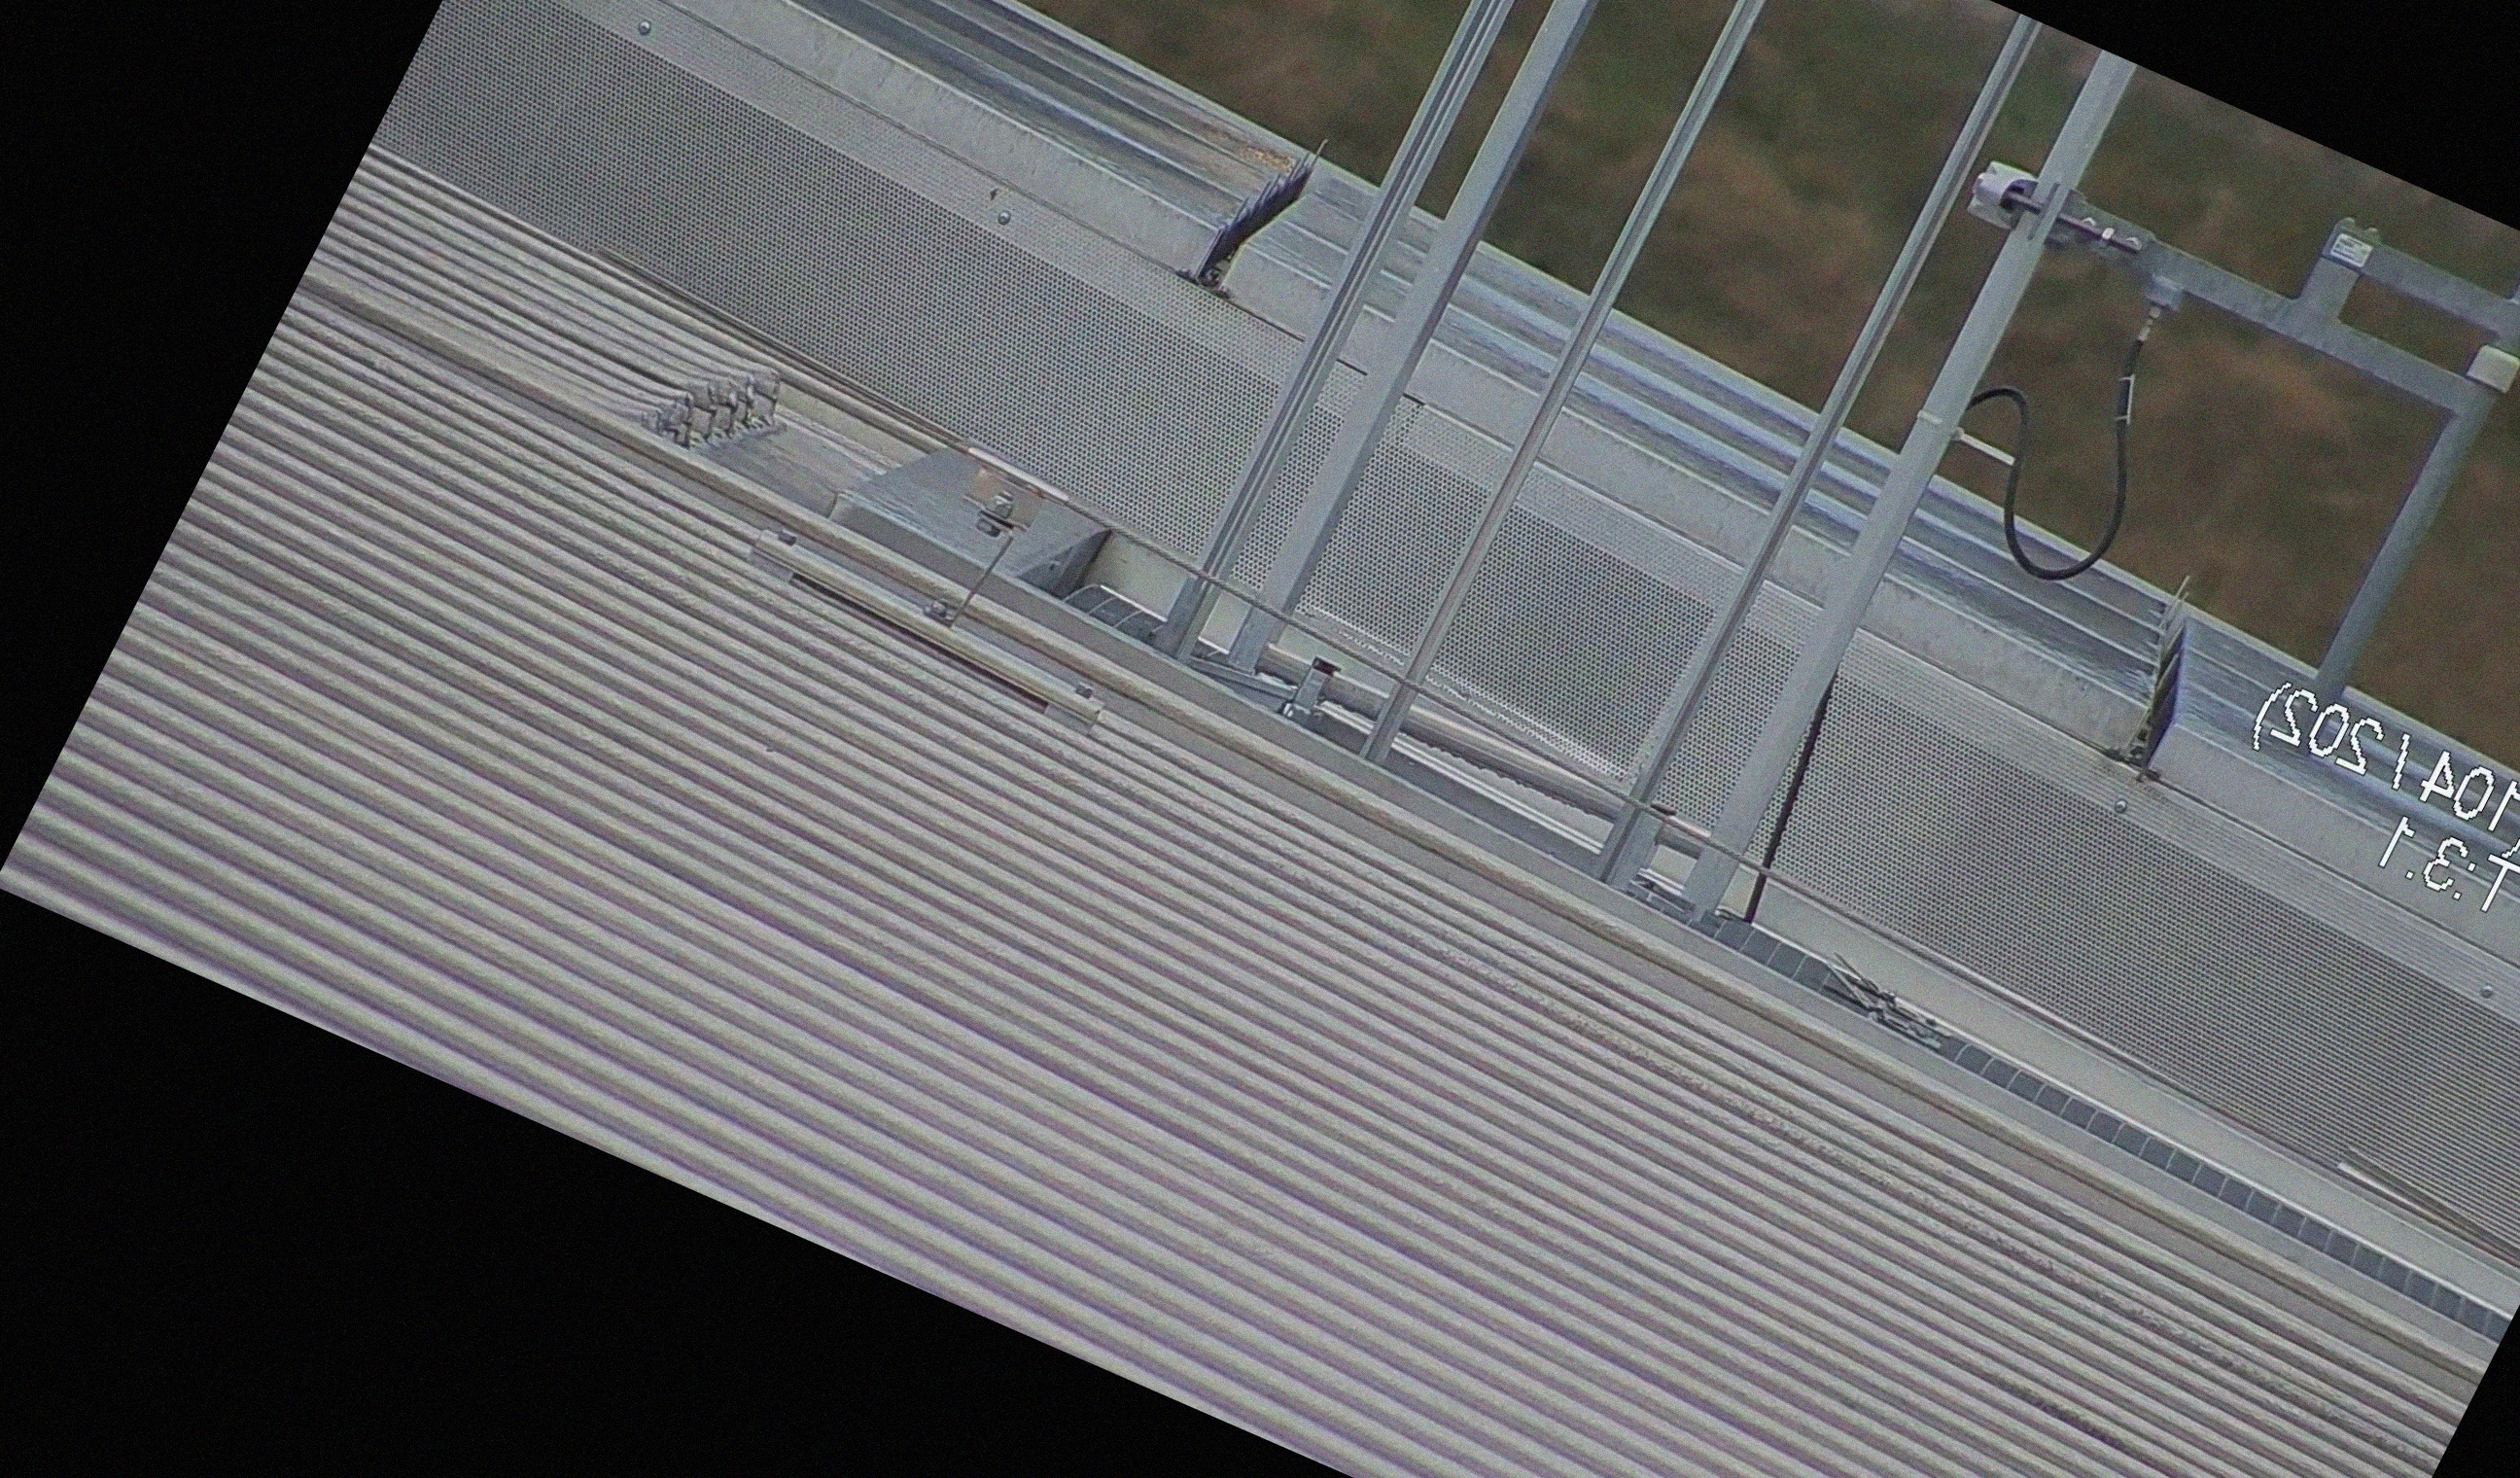Other: (1161, 102, 1340, 311)
